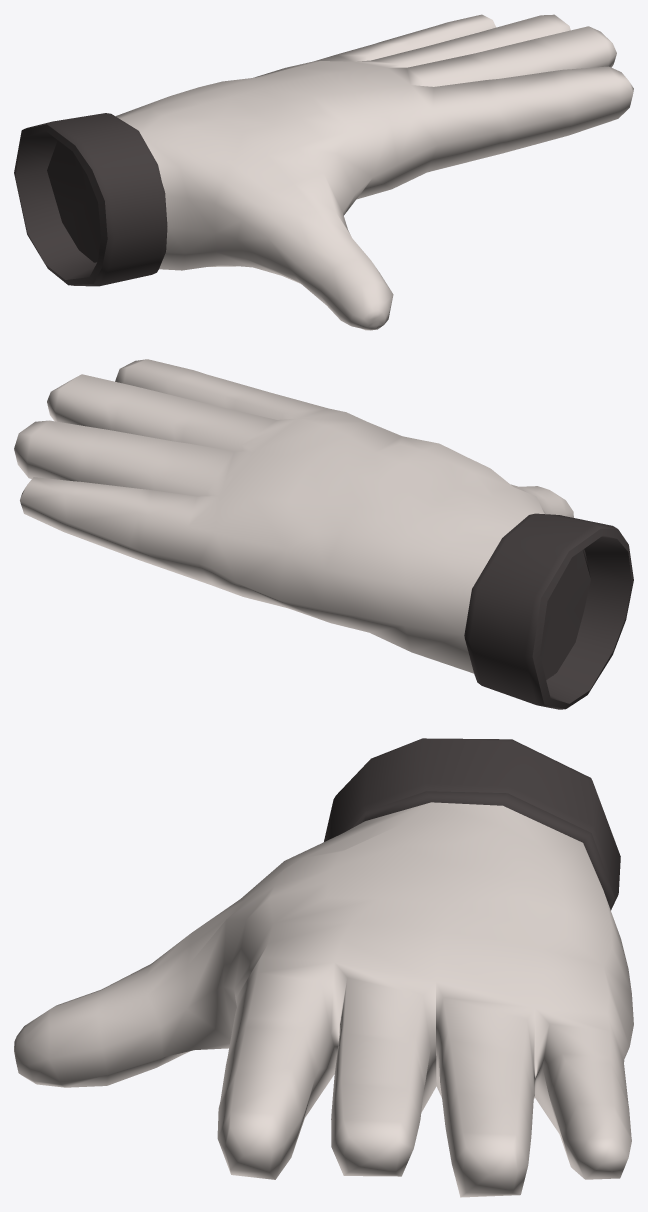
File: Left_Arm_02_03.fbx
3 views of the same model, one above another, from view 1: azimuth 30°, elevation 25°; view 2: azimuth 150°, elevation 25°; view 3: azimuth 270°, elevation 25° (orthographic). The views are drawn at different scales.
Parts seen in each view (by area): view 1: Left_Arm_02_03; view 2: Left_Arm_02_03; view 3: Left_Arm_02_03.
Boxes of the visible parts, x1,y1,x2,y2 form: Left_Arm_02_03: [14, 14, 633, 330]; Left_Arm_02_03: [14, 359, 633, 709]; Left_Arm_02_03: [14, 738, 633, 1197].
Bounding box in the file's own units: 25.38 × 7.23 × 16.72.
